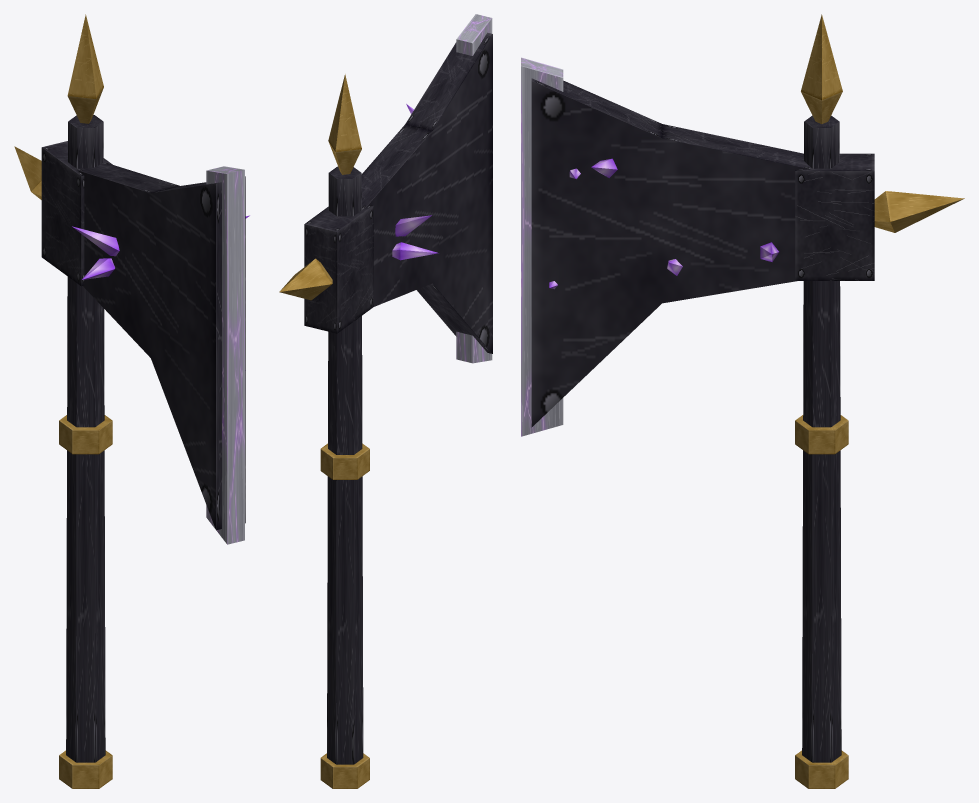
File: HighAxe.fbx
3 renders of one model, left to right at view 1: azimuth 30°, elevation 25°; view 2: azimuth 150°, elevation 25°; view 3: azimuth 270°, elevation 25°, orthographic. The views are drawn at different scales.
Visible parts, largest first — view 1: Head, Handle, Glow; view 2: Head, Handle, Glow; view 3: Head, Handle, Glow.
Boxes of the visible parts, x1,y1,x2,y2 form: Head: [14, 14, 245, 544]; Handle: [59, 115, 112, 788]; Glow: [72, 215, 249, 279]; Head: [279, 14, 492, 363]; Handle: [320, 166, 369, 788]; Glow: [392, 104, 438, 260]; Head: [521, 14, 964, 436]; Handle: [795, 115, 848, 788]; Glow: [549, 158, 778, 289].
Bounding box in the file's own units: 45.98 × 320 × 168.
Materials: 2 (2 with a texture image).
